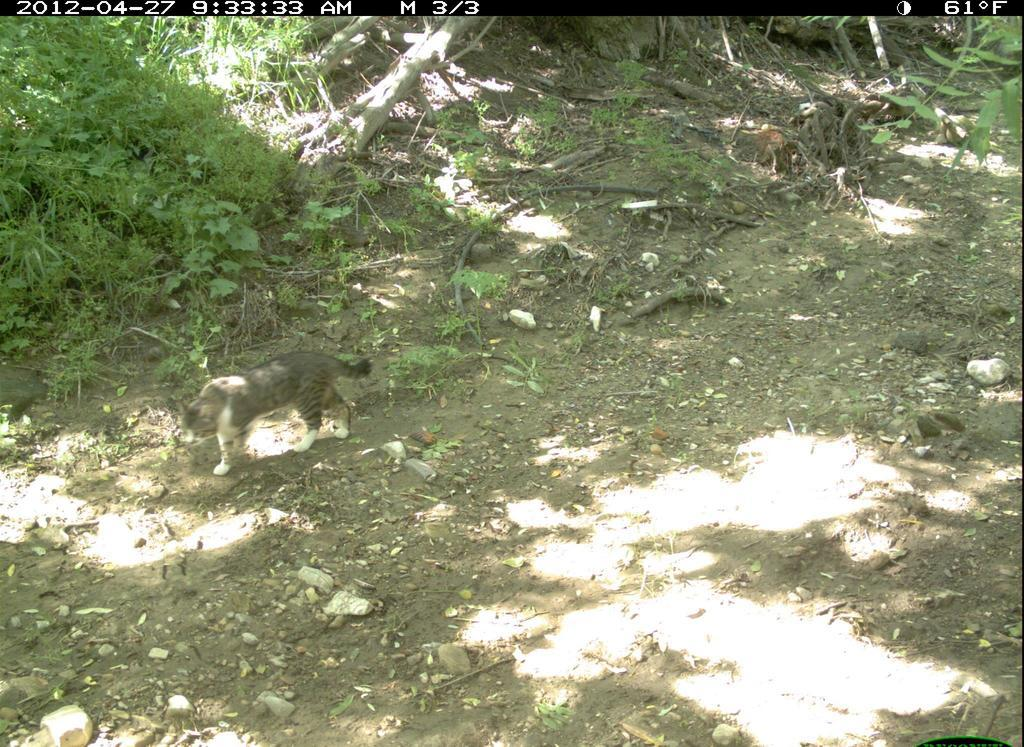cat: (177, 345, 379, 483)
